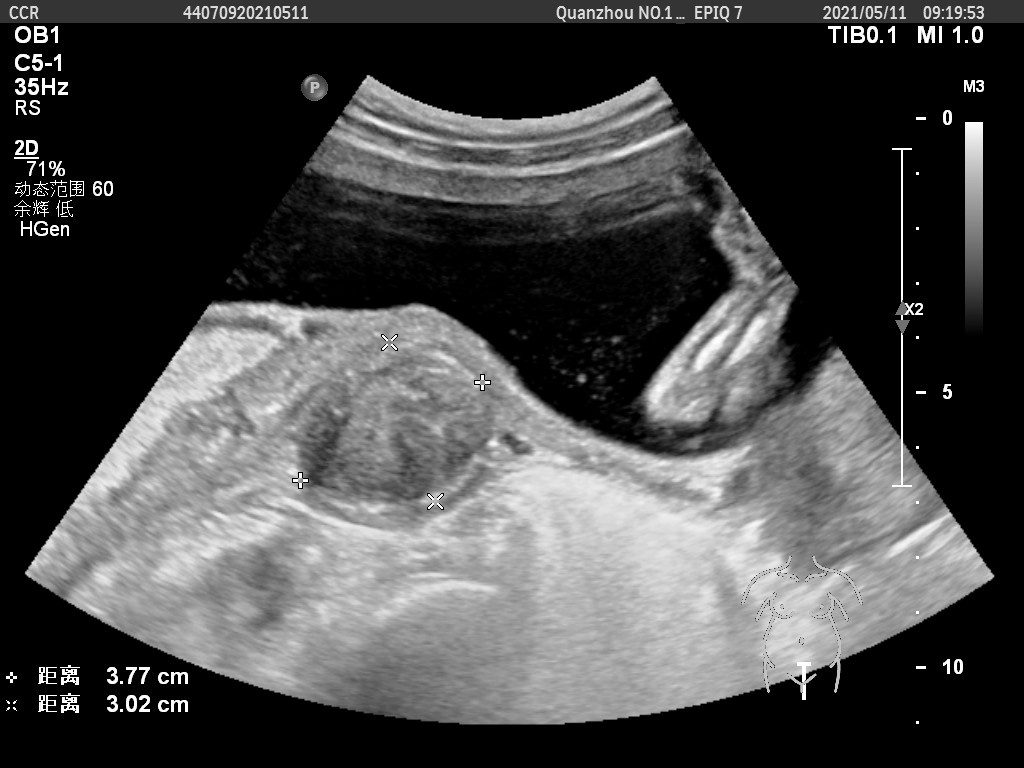肌瘤: (312, 357, 466, 495)
